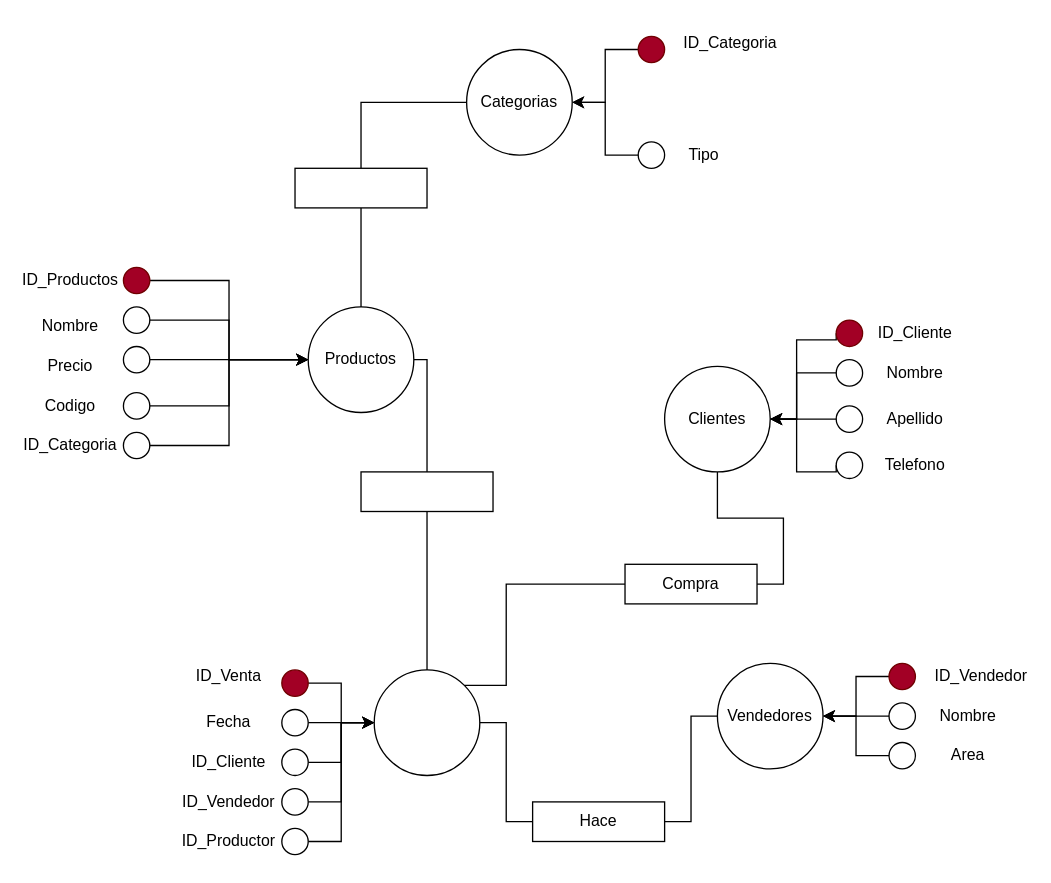
Image size: 1051x883. Some labels were removed from this diagram. Here are the shapes that lost their labels. From the top down, the centre of each, then its label:
At (360,187): "Incluye".
At (426,491): "Entregar".
At (426,722): "Ventas".
